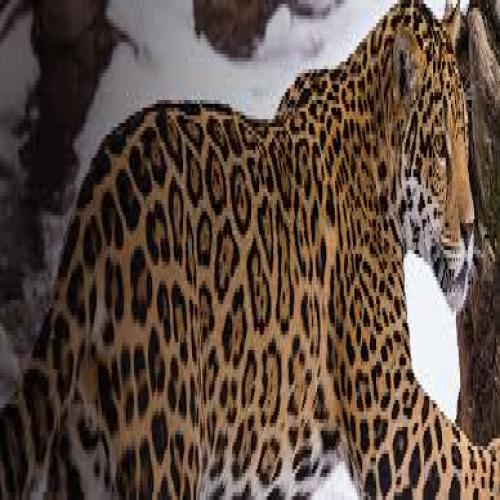jaguar_not-endangered: (6, 16, 495, 485)
